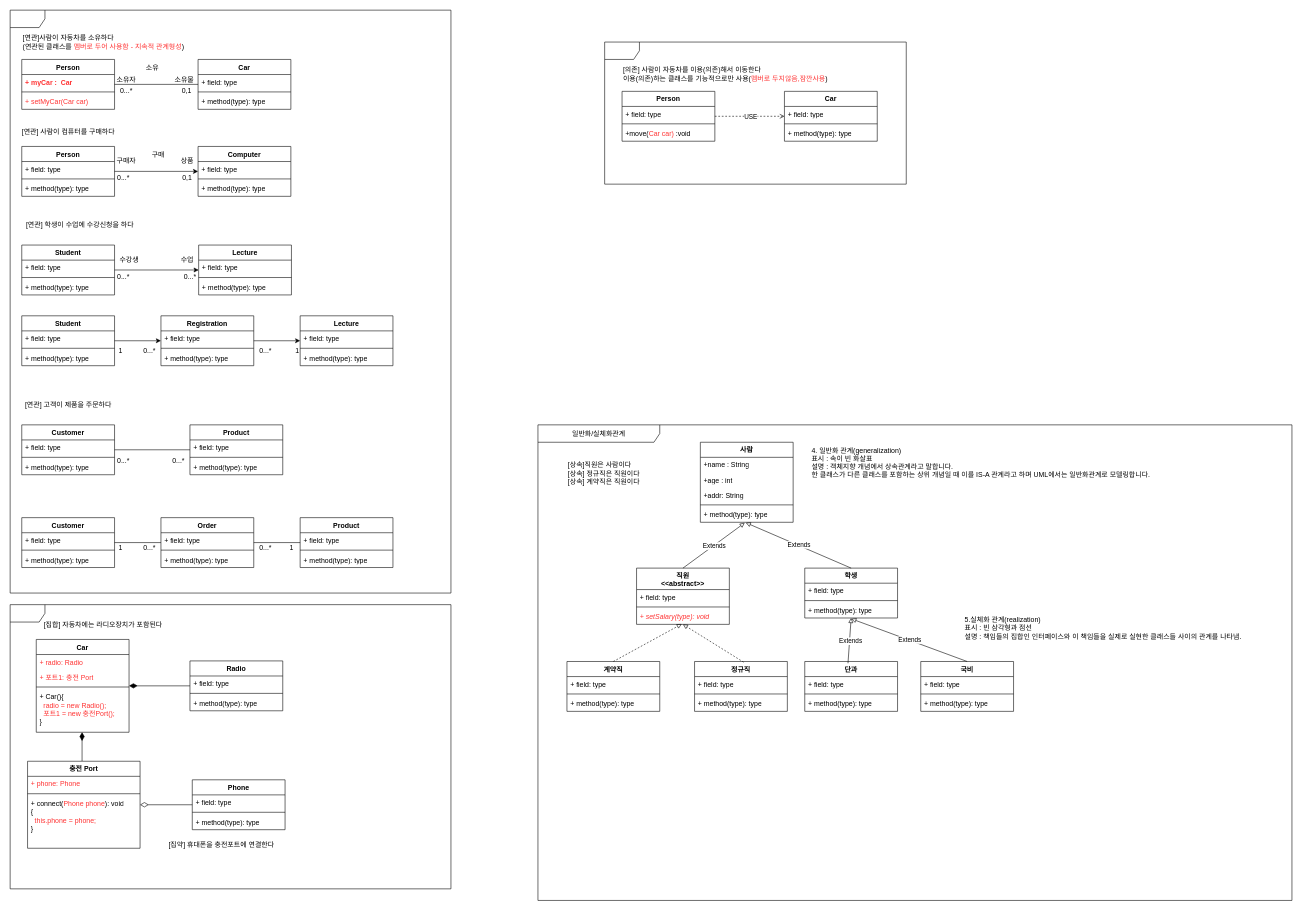
The diagram is 1302 pixels wide and 911 high, and some of its shapes have lost their labels. The shapes that lost their labels are listed below. From the top down, each one's centre as x and y in pixels, then its label:
At point 755,112: "의존관계".
At point 230,301: "연관관계".
At point 230,746: "집합/집약".
